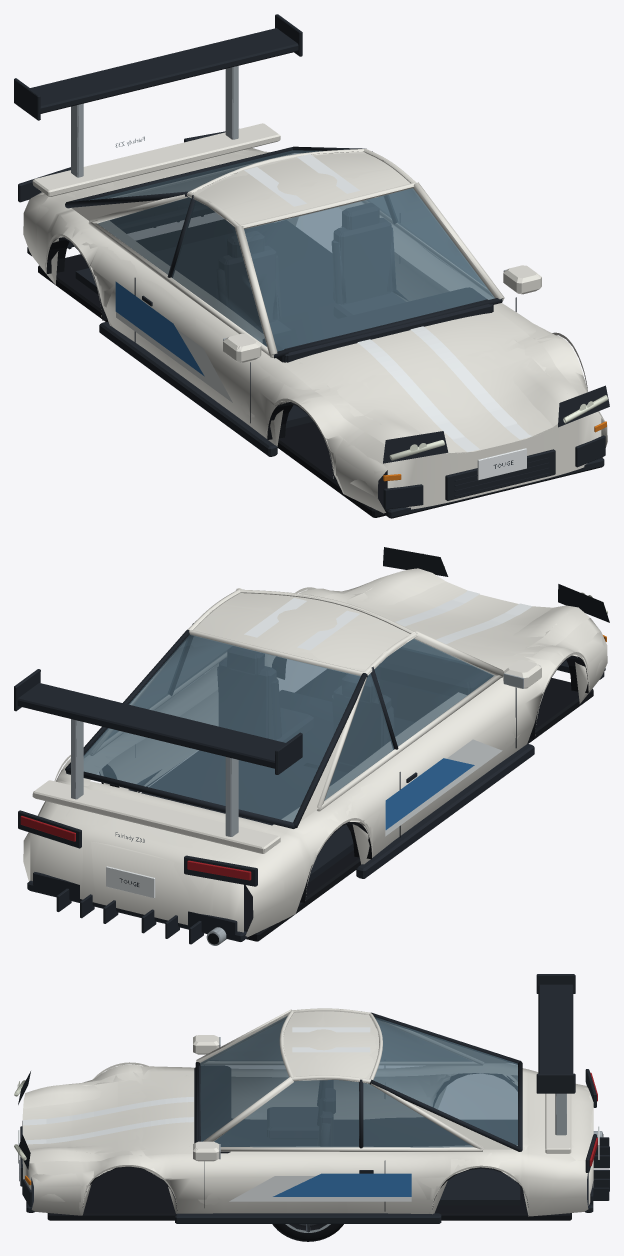
3 views of the same model, one above another, from view 1: azimuth 30°, elevation 25°; view 2: azimuth 150°, elevation 25°; view 3: azimuth 270°, elevation 25° (orthographic). The views are drawn at different scales.
Parts seen in each view (by area): view 1: LOD0_body, LOD0_cabin, LOD0_glass, LOD1_glass, LOD1_body, LOD0_hood, LOD1_hood, LOD1_spoiler_gt, LOD0_spoiler_gt, LOD0_vinyl_apex, LOD1_spoiler_stock, LOD1_vinyl_twin (+3 smaller); view 2: LOD0_body, LOD0_cabin, LOD0_glass, LOD1_glass, LOD1_body, LOD1_spoiler_gt, LOD1_hood, LOD0_spoiler_gt, LOD0_hood, LOD1_cabin, LOD0_vinyl_apex, LOD1_spoiler_stock (+3 smaller); view 3: LOD0_body, LOD0_glass, LOD1_glass, LOD0_cabin, LOD1_body, LOD0_hood, LOD1_hood, LOD1_cabin, LOD0_vinyl_apex, LOD1_spoiler_gt, LOD0_spoiler_gt, LOD0_vinyl_twin (+5 smaller).
Part boxes in pixels (box(x1,y1,x2,y2)): LOD0_body: box(18, 131, 609, 518); LOD0_cabin: box(65, 146, 504, 428); LOD0_glass: box(89, 150, 494, 350); LOD1_glass: box(92, 150, 494, 351); LOD1_body: box(18, 138, 607, 518); LOD0_hood: box(280, 310, 579, 453); LOD1_hood: box(300, 316, 552, 453); LOD1_spoiler_gt: box(14, 28, 302, 177); LOD0_spoiler_gt: box(14, 14, 302, 177); LOD0_vinyl_apex: box(115, 247, 446, 402); LOD1_spoiler_stock: box(32, 123, 280, 196); LOD1_vinyl_twin: box(244, 154, 531, 452); LOD0_body: box(18, 547, 609, 945); LOD0_cabin: box(65, 588, 503, 889); LOD0_glass: box(84, 634, 493, 822); LOD1_glass: box(83, 635, 494, 821); LOD1_body: box(18, 553, 607, 945); LOD1_spoiler_gt: box(16, 669, 289, 836); LOD1_hood: box(346, 572, 552, 655); LOD0_spoiler_gt: box(14, 669, 302, 836); LOD0_hood: box(323, 568, 589, 670); LOD1_cabin: box(70, 588, 493, 889); LOD0_vinyl_apex: box(183, 676, 502, 836); LOD1_spoiler_stock: box(32, 780, 279, 853); LOD0_body: box(14, 1035, 609, 1223); LOD0_glass: box(200, 1016, 517, 1147); LOD1_glass: box(200, 1016, 517, 1147); LOD0_cabin: box(194, 1008, 522, 1205); LOD1_body: box(14, 1035, 603, 1223); LOD0_hood: box(22, 1071, 194, 1163); LOD1_hood: box(22, 1076, 190, 1153); LOD1_cabin: box(195, 1009, 520, 1204); LOD0_vinyl_apex: box(229, 1173, 411, 1201); LOD1_spoiler_gt: box(537, 984, 572, 1134); LOD0_spoiler_gt: box(536, 974, 575, 1135); LOD0_vinyl_twin: box(25, 1027, 370, 1143).
Size of the model in its own units: 2.08 by 1.77 by 4.5.
